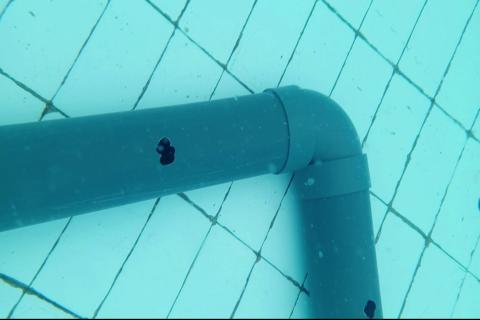kebocoran: (156, 135, 175, 166), (363, 298, 376, 320)
